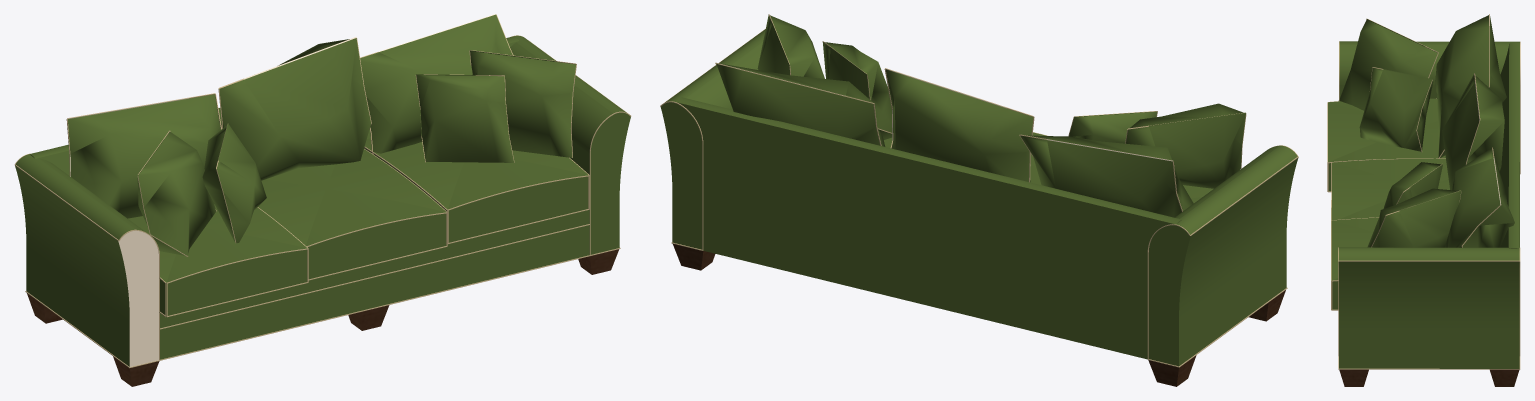
Rendered from couch.FBX.
The picture shows the model from 3 angles, left to right: view 1: azimuth 30°, elevation 25°; view 2: azimuth 150°, elevation 25°; view 3: azimuth 270°, elevation 25°; orthographic projection. The views are drawn at different scales.
Visible parts, largest first — view 1: Group_126, Group_123, Group_114, Group_121, Group_116, Group_115, Group_119, Group_117, Group_111, Group_124, Group_128, Group_132 (+2 smaller); view 2: Group_113, Group_123, Group_126, Group_121, Group_119, Group_117, Group_132, Group_124, Group_111, Group_128, Group_130; view 3: Group_124, Group_130, Group_117, Group_119, Group_114, Group_121, Group_113, Group_128, Group_132, Group_115, Group_116, Group_126 (+2 smaller).
Part boxes in pixels (x1,y1,x2,y2): Group_126: (14, 153, 159, 368); Group_123: (160, 210, 589, 360); Group_114: (258, 148, 447, 280); Group_121: (219, 38, 371, 180); Group_116: (364, 138, 589, 243); Group_115: (128, 204, 308, 317); Group_119: (68, 94, 220, 218); Group_117: (360, 14, 512, 154); Group_111: (416, 75, 514, 162); Group_124: (510, 35, 631, 255); Group_128: (470, 51, 575, 157); Group_132: (137, 132, 215, 255); Group_113: (673, 97, 1285, 386); Group_123: (703, 201, 1147, 359); Group_126: (1147, 145, 1298, 367); Group_121: (885, 69, 1033, 181); Group_119: (1020, 135, 1193, 217); Group_117: (716, 63, 885, 146); Group_132: (1126, 103, 1245, 188); Group_124: (660, 29, 765, 250); Group_111: (822, 42, 892, 139); Group_128: (757, 15, 824, 78); Group_130: (1069, 111, 1157, 143); Group_124: (1338, 247, 1520, 369); Group_130: (1359, 67, 1433, 151); Group_117: (1448, 148, 1514, 247); Group_119: (1435, 15, 1506, 157); Group_114: (1331, 158, 1449, 220); Group_121: (1442, 74, 1504, 190); Group_113: (1339, 42, 1519, 386); Group_128: (1367, 188, 1461, 247); Group_132: (1339, 19, 1437, 110); Group_115: (1327, 98, 1445, 192); Group_116: (1331, 217, 1378, 310); Group_126: (1339, 41, 1520, 174).
Bounding box in the file's own units: 121 × 49.49 × 45.35.
4 materials, 1 textured.
